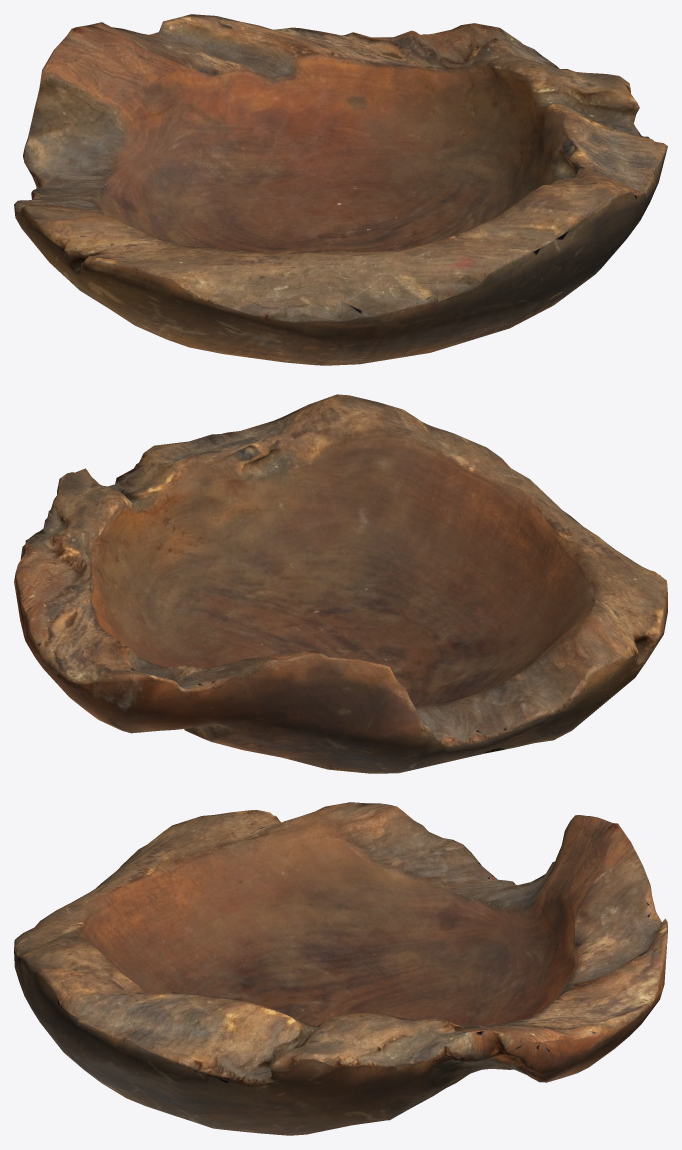
Rendered from wooden_bowl_01.fbx.
The picture shows the model from 3 angles, top to bottom: view 1: azimuth 30°, elevation 25°; view 2: azimuth 150°, elevation 25°; view 3: azimuth 270°, elevation 25°; orthographic projection. The views are drawn at different scales.
Visible parts, largest first — view 1: wooden_bowl_01_LOD0; view 2: wooden_bowl_01_LOD0; view 3: wooden_bowl_01_LOD0.
Part boxes in pixels (x1,y1,x2,y2): wooden_bowl_01_LOD0: (14, 14, 667, 365); wooden_bowl_01_LOD0: (14, 394, 667, 773); wooden_bowl_01_LOD0: (14, 802, 667, 1135).
Size of what is drawn, in the model's own units: 31.32 by 9.38 by 30.9.
Materials: 1 (1 with a texture image).
